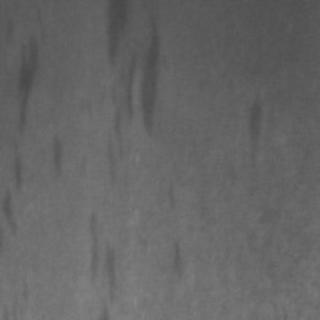inclusion: (2, 11, 58, 235), (88, 1, 140, 186), (133, 9, 169, 140), (84, 205, 118, 313), (235, 85, 273, 179), (42, 124, 68, 180), (163, 234, 190, 280)
